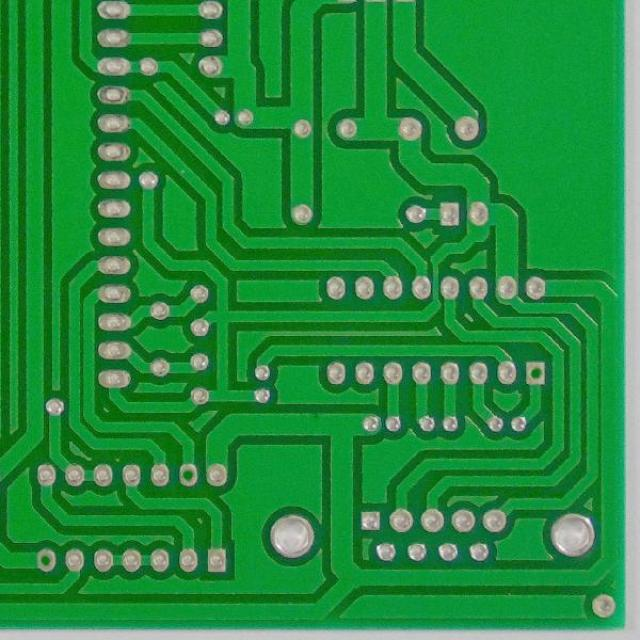Missing_Hole: (522, 358, 549, 388), (34, 546, 58, 573), (177, 460, 200, 486)
